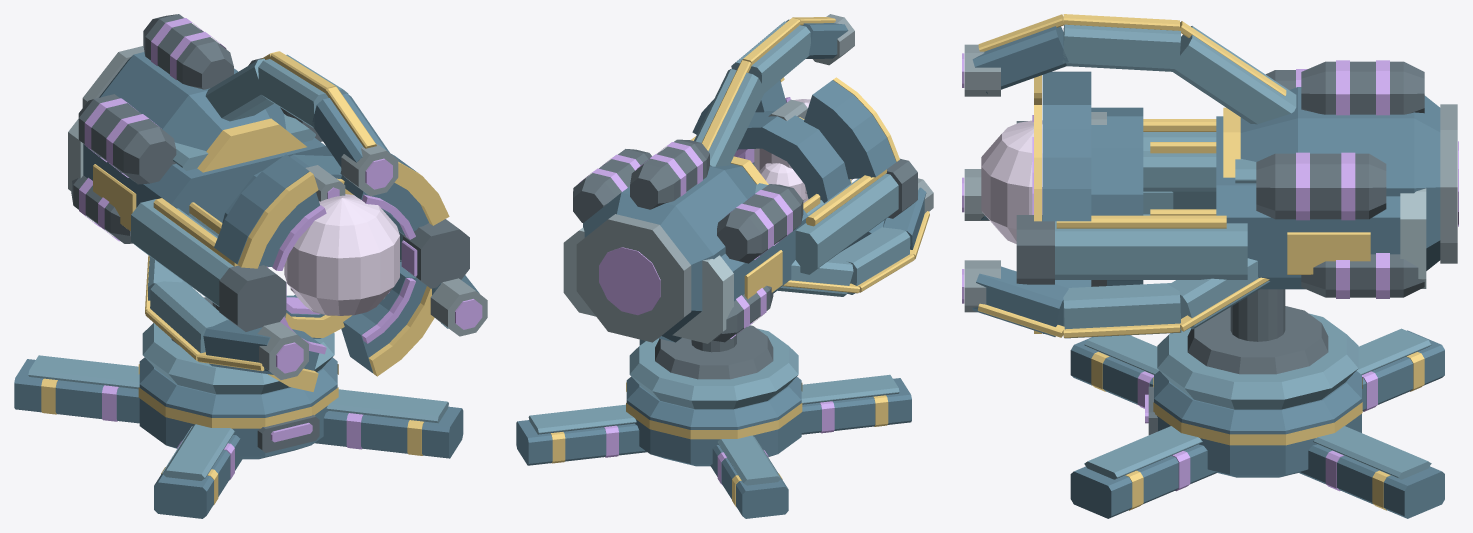
Rendered from Plasma.fbx.
3 views of the same model, side by side, from view 1: azimuth 30°, elevation 25°; view 2: azimuth 150°, elevation 25°; view 3: azimuth 270°, elevation 25° (orthographic). The views are drawn at different scales.
Parts seen in each view (by area): view 1: T3, T2, PlasmaTurret_Base, T1; view 2: T3, PlasmaTurret_Base, T2, T1; view 3: T3, PlasmaTurret_Base, T2, T1.
Boxes of the visible parts, x1,y1,x2,y2 form: T3: (71, 14, 487, 379); T2: (68, 58, 469, 391); PlasmaTurret_Base: (14, 297, 463, 518); T1: (188, 154, 389, 338); T3: (576, 14, 933, 342); PlasmaTurret_Base: (516, 325, 911, 518); T2: (563, 77, 917, 343); T1: (734, 99, 851, 214); T3: (962, 14, 1458, 338); PlasmaTurret_Base: (1070, 289, 1444, 518); T2: (1016, 69, 1426, 333); T1: (1091, 107, 1216, 286).
Bounding box in the file's own units: 2.16 × 2.72 × 2.86.
